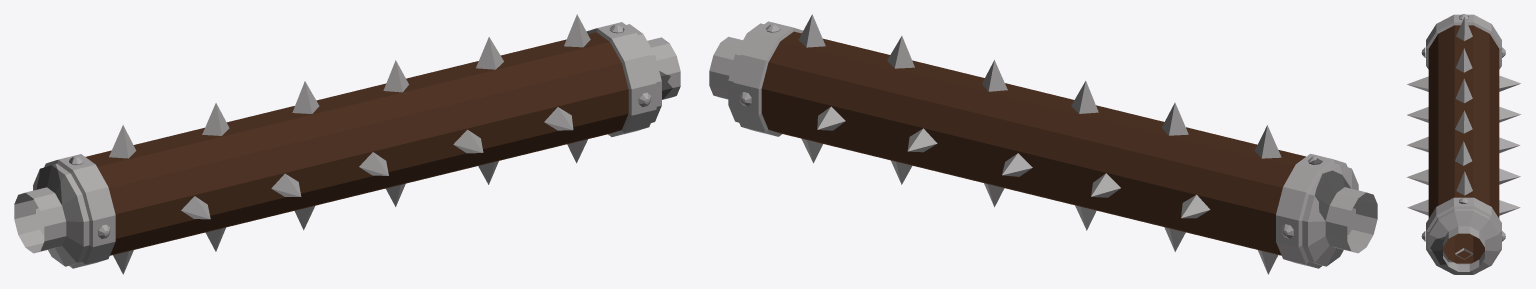
The model's file is H_SpinningBump.fbx.
3 views of the same model, side by side, from view 1: azimuth 30°, elevation 25°; view 2: azimuth 150°, elevation 25°; view 3: azimuth 270°, elevation 25° (orthographic). The views are drawn at different scales.
Visible parts, largest first — view 1: H_SpinningBump; view 2: H_SpinningBump; view 3: H_SpinningBump.
Boxes of the visible parts, box(x1,y1,x2,y2) form: H_SpinningBump: box(14, 14, 680, 274); H_SpinningBump: box(709, 14, 1377, 274); H_SpinningBump: box(1407, 14, 1521, 274).
Bounding box in the file's own units: 545 × 123 × 123.
